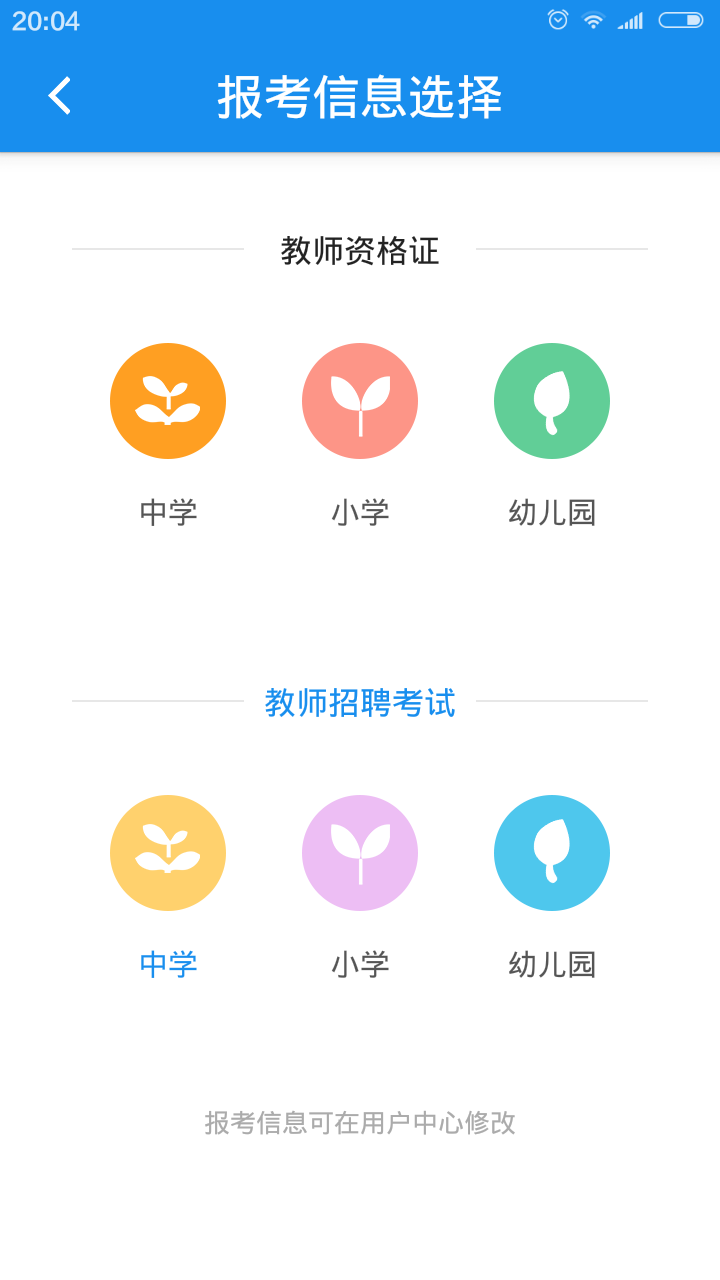imgbutton: (474, 326, 633, 472), (278, 333, 447, 469), (101, 331, 231, 477)
